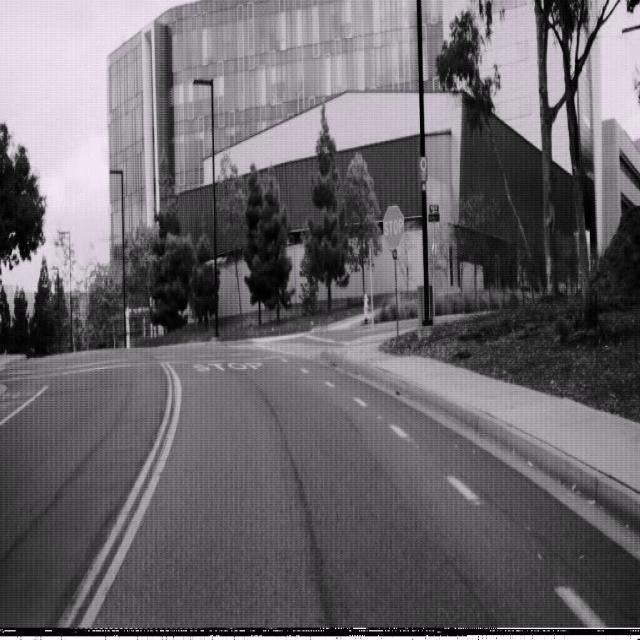stop: (383, 204, 405, 252)
